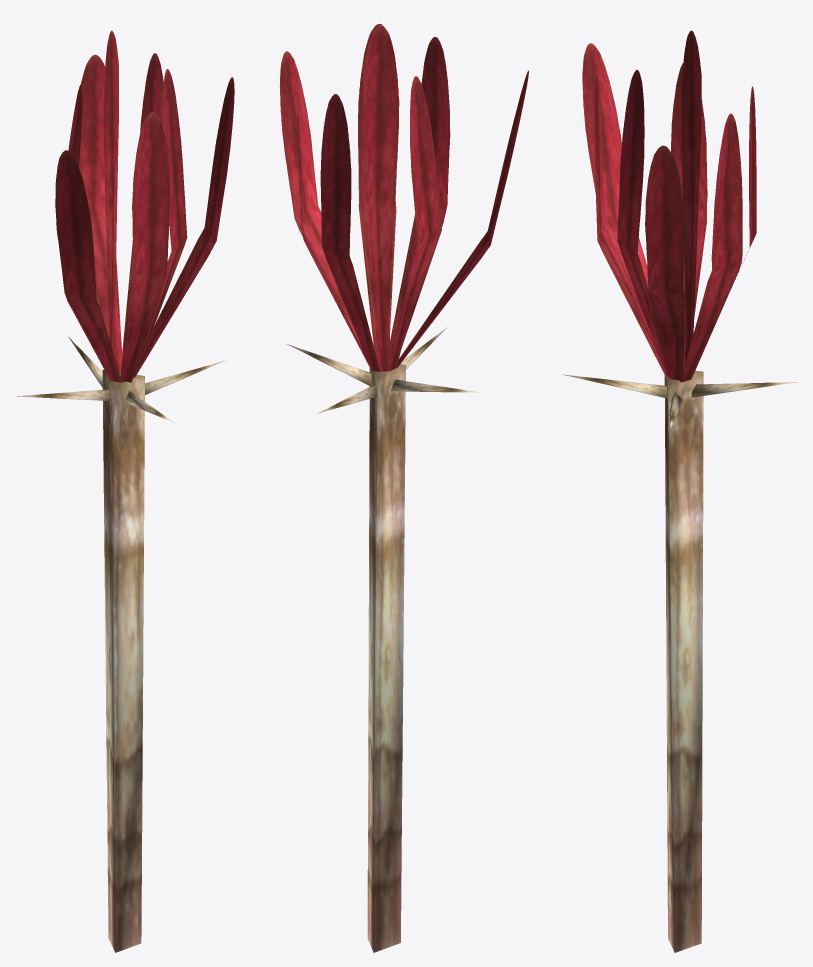
The model's file is flow_tatt_funnel_med_l2.fbx.
The picture shows the model from 3 angles, left to right: view 1: azimuth 30°, elevation 25°; view 2: azimuth 150°, elevation 25°; view 3: azimuth 270°, elevation 25°; orthographic projection.
Visible parts, largest first — view 1: mesh_node; view 2: mesh_node; view 3: mesh_node.
Boxes of the visible parts, x1=… form: mesh_node: x1=16, y1=30, x2=234, y2=952; mesh_node: x1=279, y1=23, x2=528, y2=952; mesh_node: x1=563, y1=30, x2=797, y2=952.
Size of the model in its own units: 0.29 by 1.16 by 0.2715.
